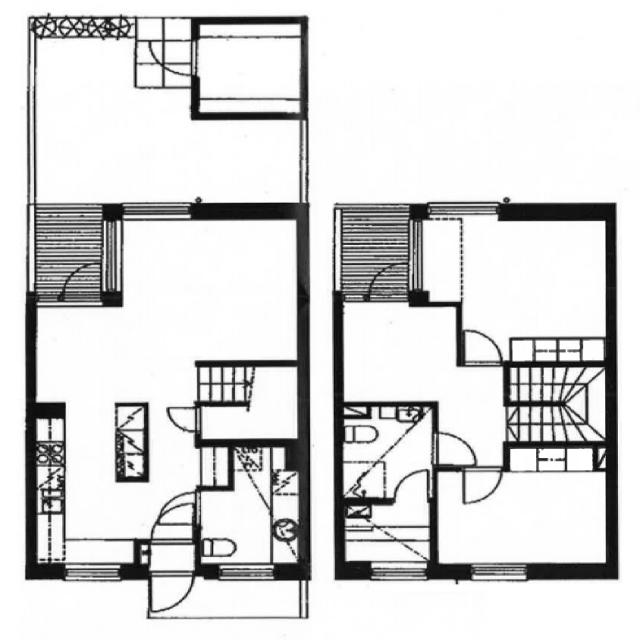door: (50, 260, 109, 312), (371, 252, 421, 312), (141, 566, 195, 616), (422, 423, 480, 467), (144, 30, 192, 82), (147, 501, 212, 536), (458, 324, 506, 371), (458, 464, 506, 507), (155, 492, 209, 530), (162, 406, 206, 445), (394, 465, 436, 503)
window: (106, 190, 205, 223), (426, 188, 513, 225), (444, 561, 550, 587), (92, 214, 125, 294), (202, 560, 292, 588), (49, 560, 127, 588), (352, 558, 433, 580)
zone: (118, 208, 306, 364), (454, 212, 610, 362), (29, 406, 142, 575), (437, 463, 607, 570), (195, 13, 312, 127), (204, 440, 304, 573), (338, 296, 449, 402), (343, 400, 432, 501), (344, 497, 438, 576), (200, 400, 314, 444)
